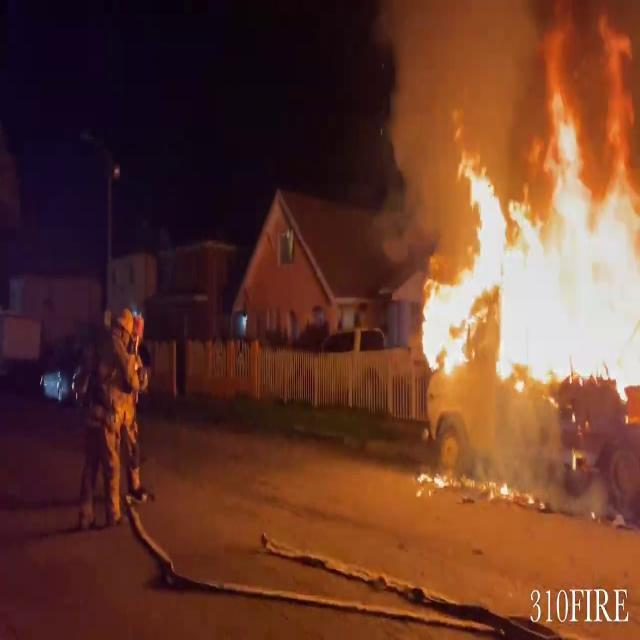Fire: (409, 9, 640, 396)
Smoke: (353, 0, 523, 219)
